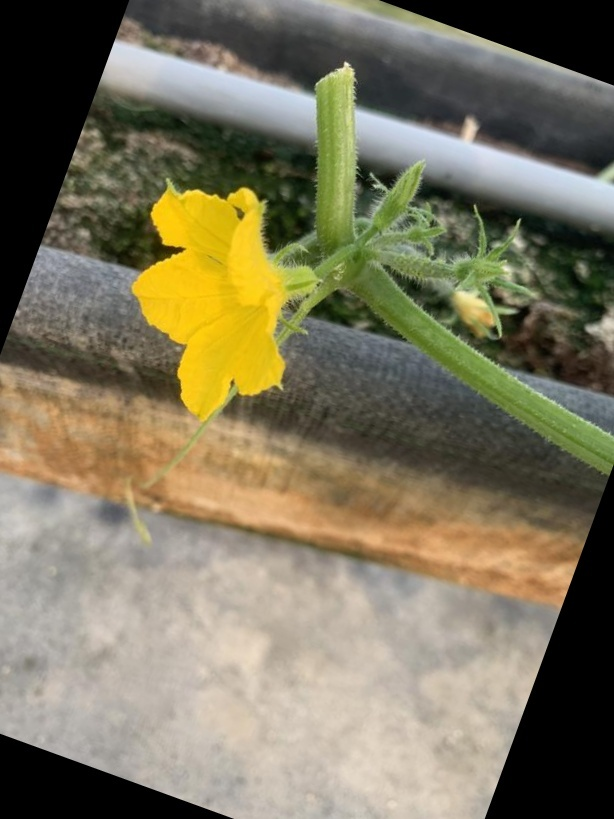flowering: (121, 185, 331, 426)
mature: (120, 185, 331, 425)
